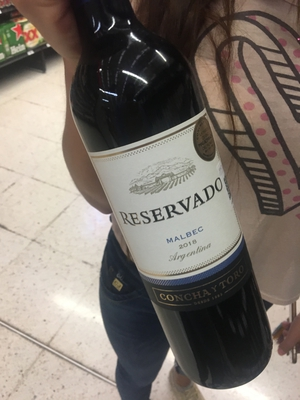reservado malbec: (71, 15, 277, 395)
